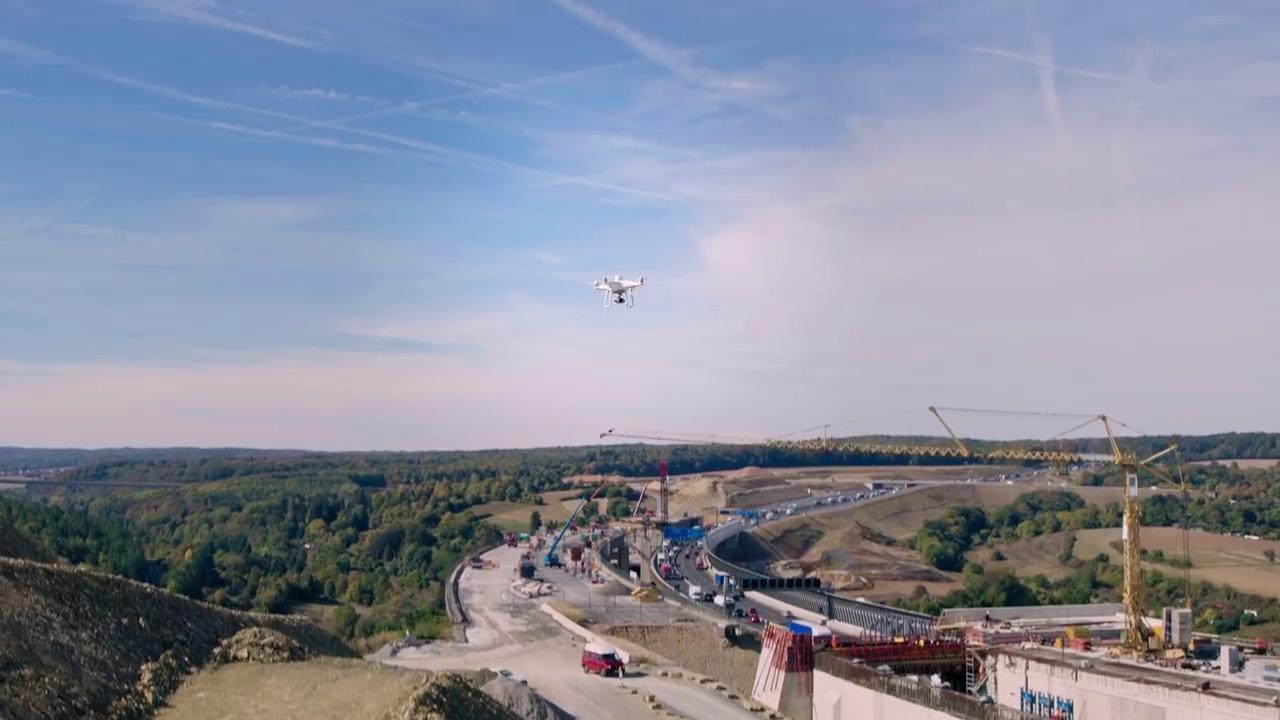drone: (584, 271, 651, 310)
